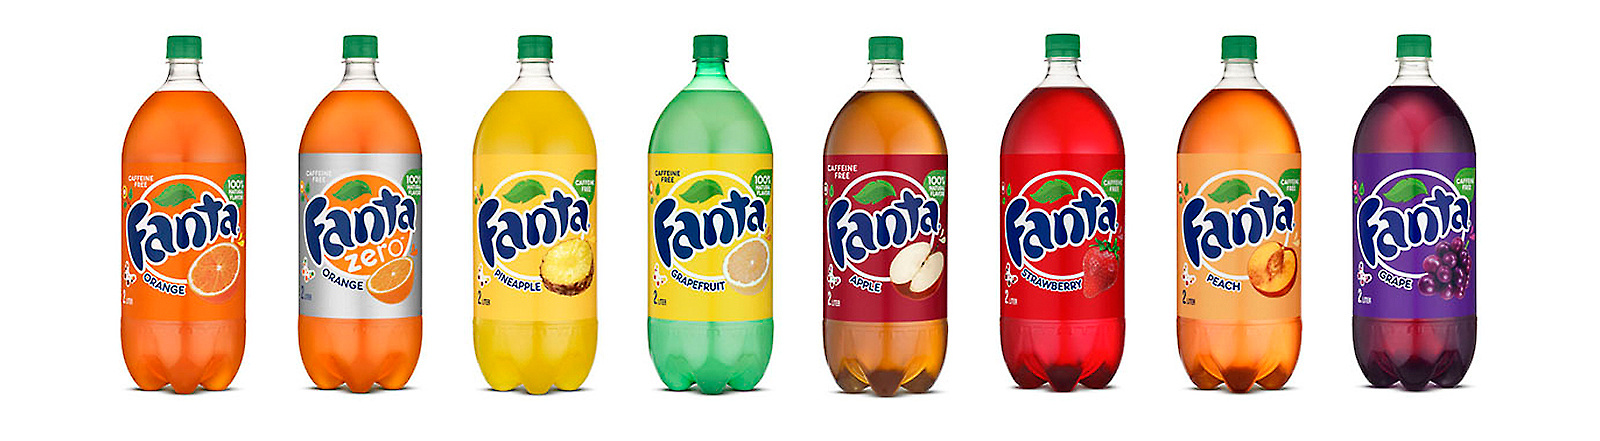Fanta: (292, 29, 417, 406), (1173, 33, 1298, 410), (121, 17, 246, 393)
